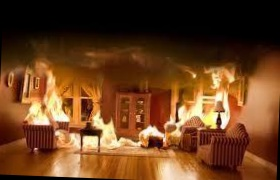fire: (95, 113, 123, 151), (27, 100, 58, 129), (207, 67, 231, 103), (177, 104, 203, 125)
smoke: (11, 0, 195, 88)
